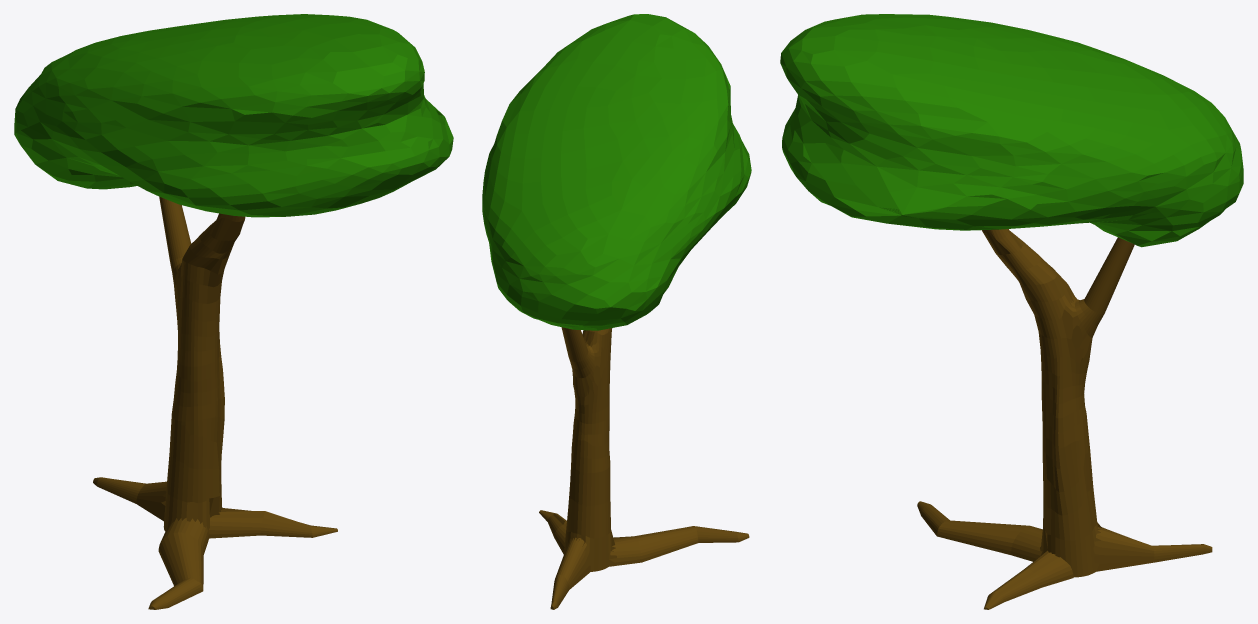
The model's file is no_banana_tree.fbx.
3 renders of one model, left to right at view 1: azimuth 30°, elevation 25°; view 2: azimuth 150°, elevation 25°; view 3: azimuth 270°, elevation 25°, orthographic. The views are drawn at different scales.
Visible parts, largest first — view 1: Icosphere.001; view 2: Icosphere.001; view 3: Icosphere.001.
Boxes of the visible parts, left/top/right/bottom form: Icosphere.001: left=14, top=14, right=453, bottom=609; Icosphere.001: left=482, top=14, right=751, bottom=609; Icosphere.001: left=780, top=14, right=1243, bottom=609.
Bounding box in the file's own units: 1046 × 1865 × 1424.
